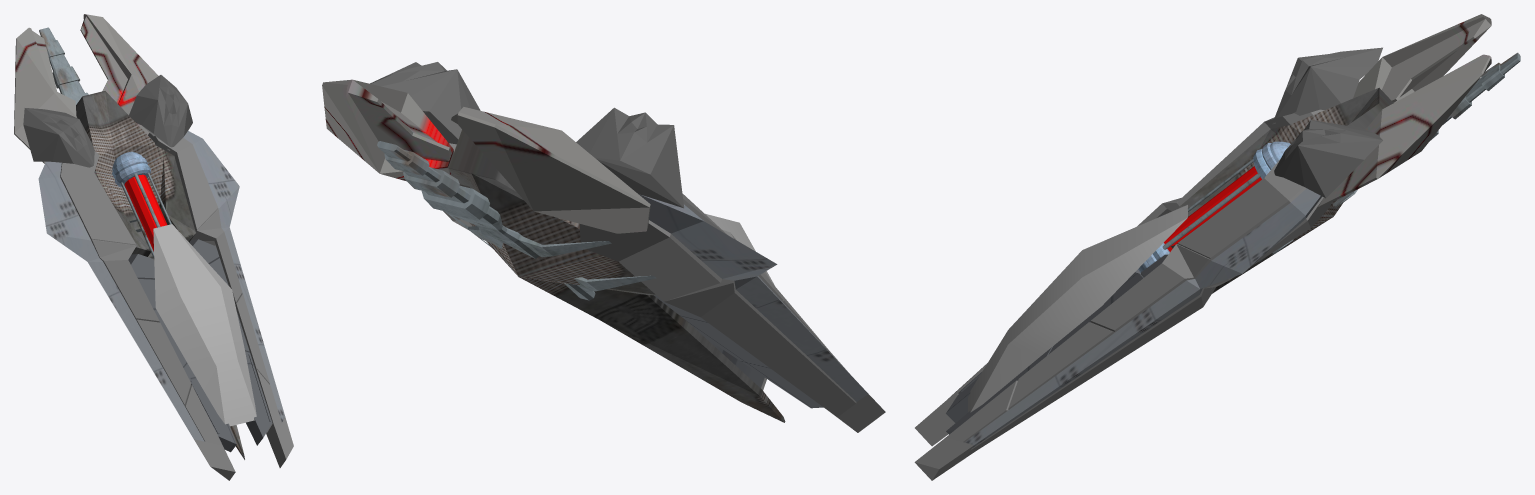
Rendered from weakopen (1).fbx.
3 views of the same model, side by side, from view 1: azimuth 30°, elevation 25°; view 2: azimuth 150°, elevation 25°; view 3: azimuth 270°, elevation 25° (orthographic). The views are drawn at different scales.
Visible parts, largest first — view 1: polySurface3355, polySurface3360; view 2: polySurface3355, polySurface3360; view 3: polySurface3355, polySurface3360.
Part boxes in pixels (left/top/right/bottom): polySurface3355: left=14, top=14, right=293, bottom=480; polySurface3360: left=153, top=224, right=256, bottom=426; polySurface3355: left=322, top=62, right=885, bottom=432; polySurface3360: left=705, top=213, right=774, bottom=285; polySurface3355: left=914, top=14, right=1520, bottom=480; polySurface3360: left=968, top=205, right=1187, bottom=412.
Bounding box in the file's own units: 3.97 × 6.06 × 7.75.
